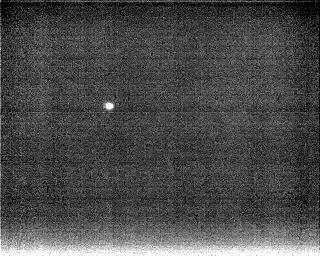AIRPLANE: (103, 100, 116, 112)
